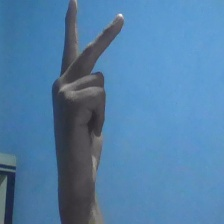K: (48, 1, 129, 204)
